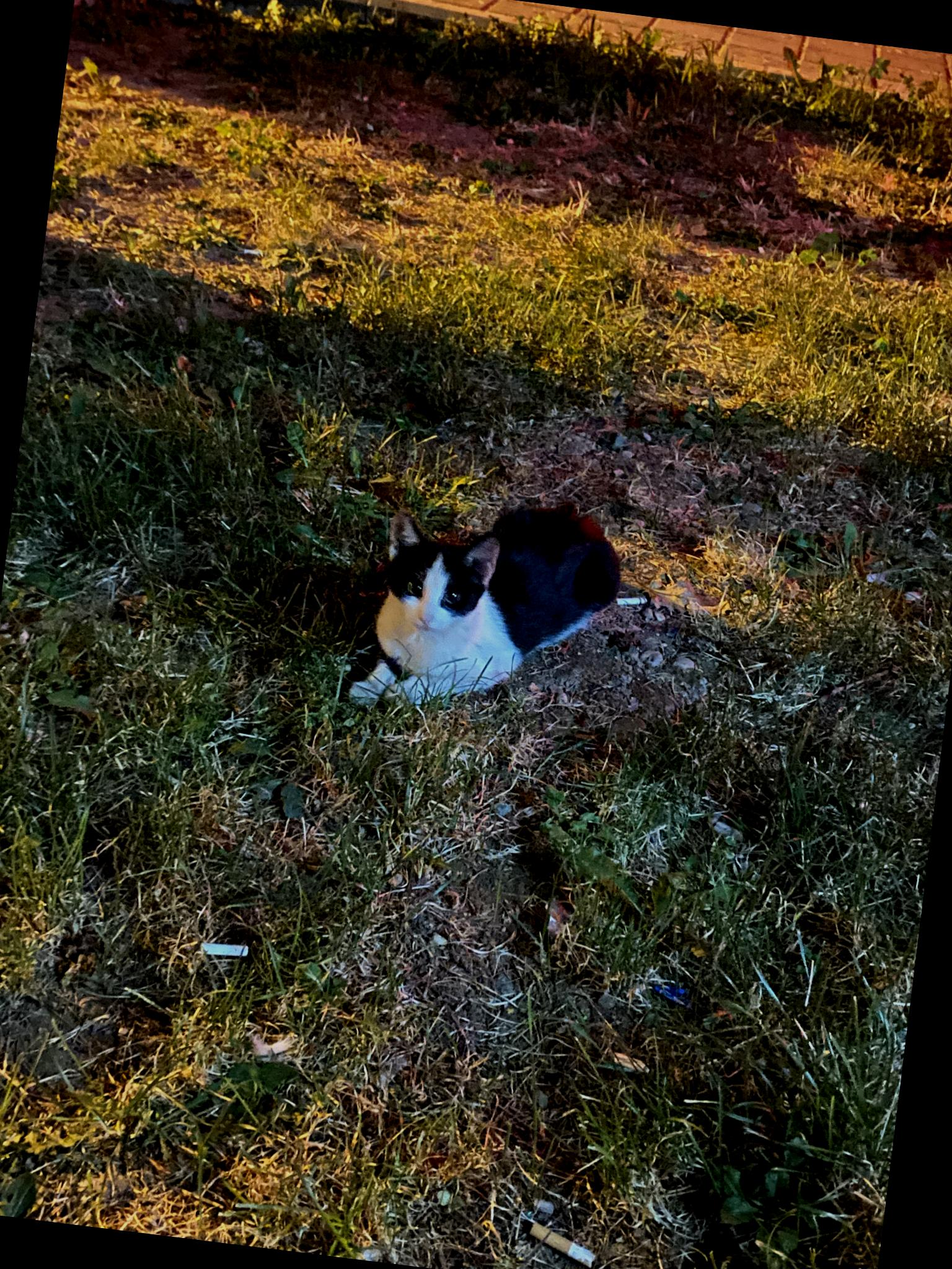macka: (342, 475, 630, 738)
